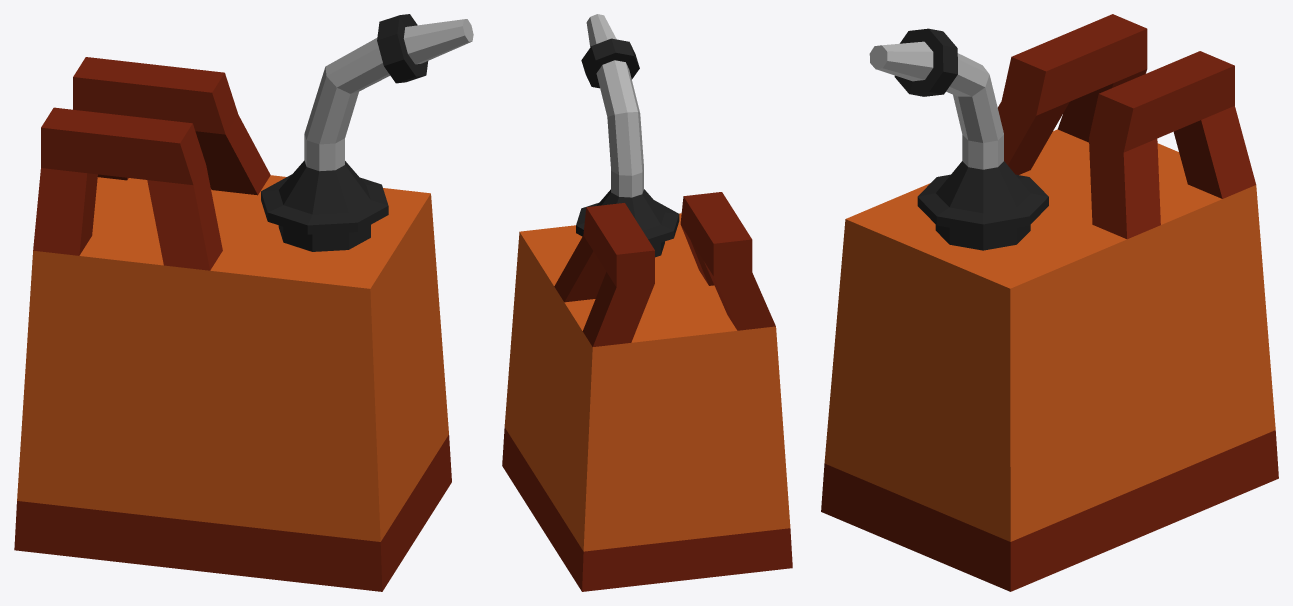
Rendered from Gas.fbx.
The picture shows the model from 3 angles, left to right: view 1: azimuth 30°, elevation 25°; view 2: azimuth 150°, elevation 25°; view 3: azimuth 270°, elevation 25°; orthographic projection. The views are drawn at different scales.
Visible parts, largest first — view 1: Cube.009; view 2: Cube.009; view 3: Cube.009.
Boxes of the visible parts, x1,y1,x2,y2 form: Cube.009: (14, 14, 473, 591); Cube.009: (502, 14, 792, 591); Cube.009: (821, 14, 1278, 591).
Size of the model in its own units: 63.17 by 79.31 by 63.17.
